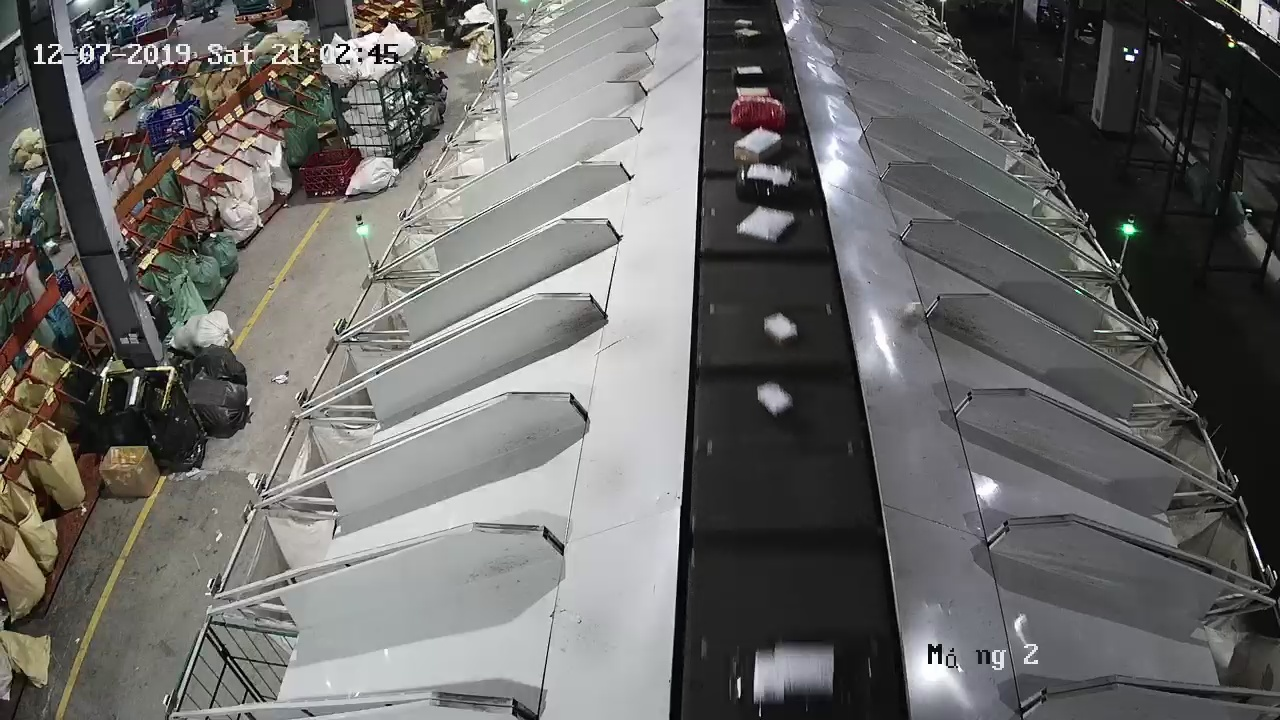parcel: (903, 300, 922, 324)
